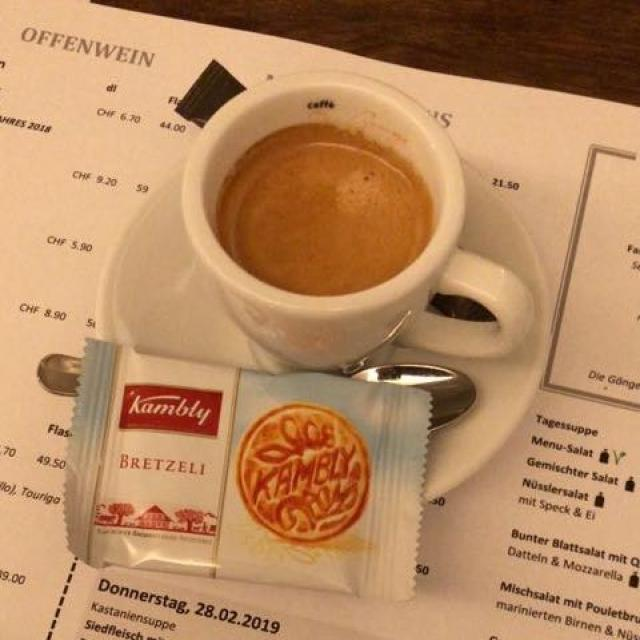ristretto-with-caffeine: (218, 128, 431, 291)
